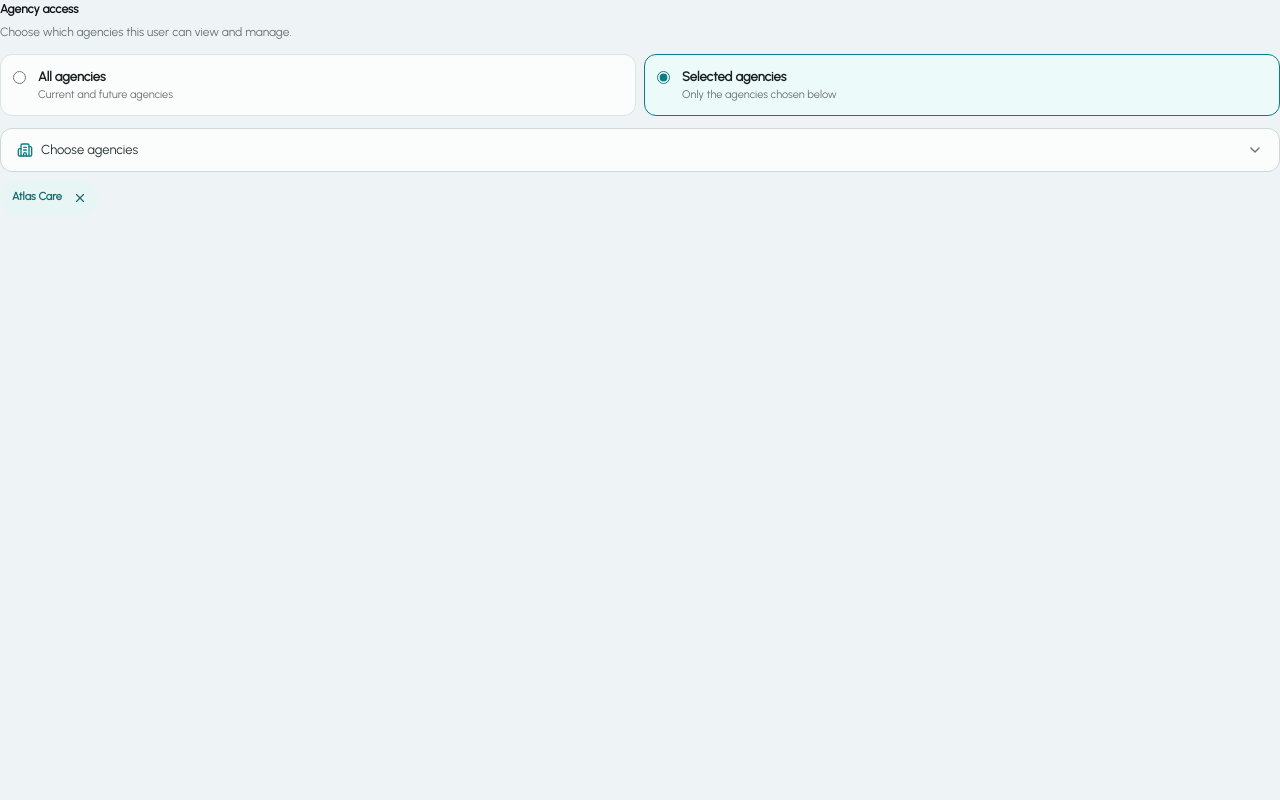
Scenario: AgencyScopeField › keeps prior agency options visible with an inline retryable error
The image size is (1280, 800).
Later steps or results of the test are not shown.
Click the button "Choose agencies" at (90, 149), box [0,128,1279,172]
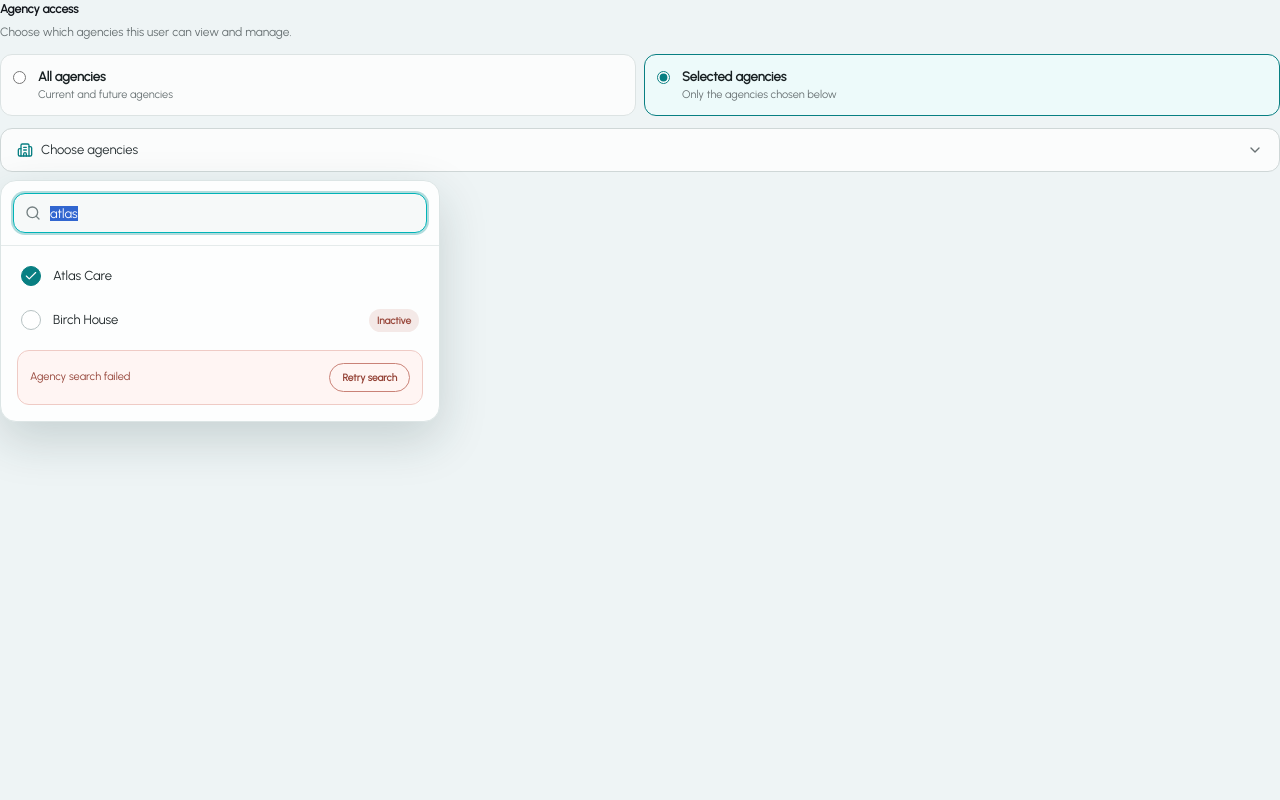
Expected: the checkbox labelled "Atlas Care" is shown, [21,266,112,286]
Expected: the message shows "Agency search failed", [30,370,130,383]
